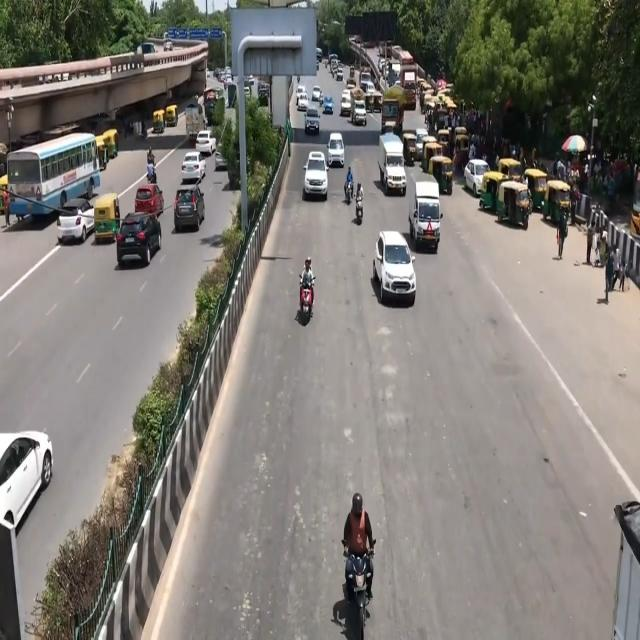Scooty: (287, 257, 333, 363)
Tempo: (412, 179, 447, 266), (376, 133, 406, 196)
